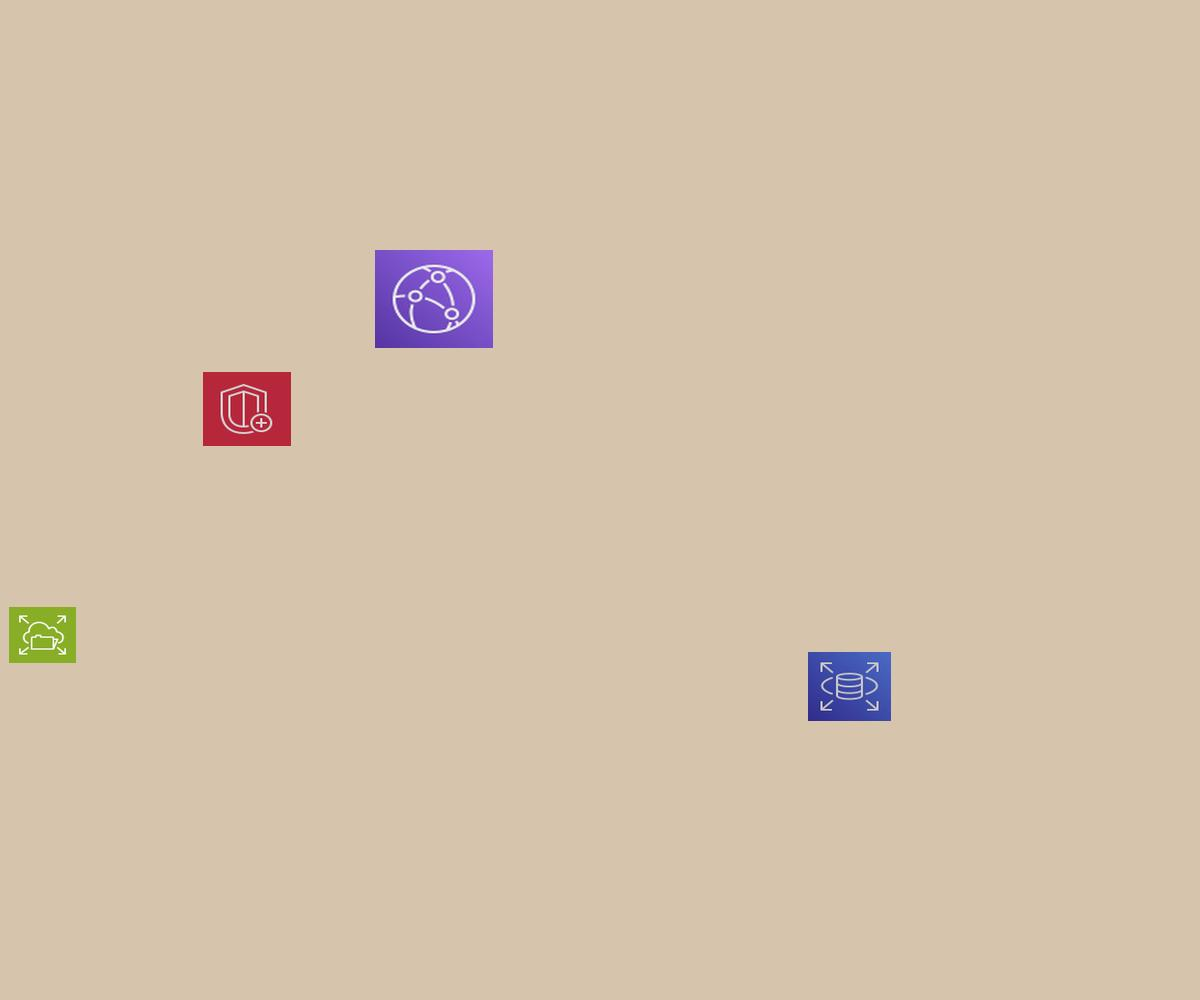AWS-CloudFront: (375, 250, 493, 348)
AWS-EFS: (9, 607, 76, 663)
AWS-RDS: (808, 652, 891, 721)
AWS-Shield: (203, 372, 291, 446)
